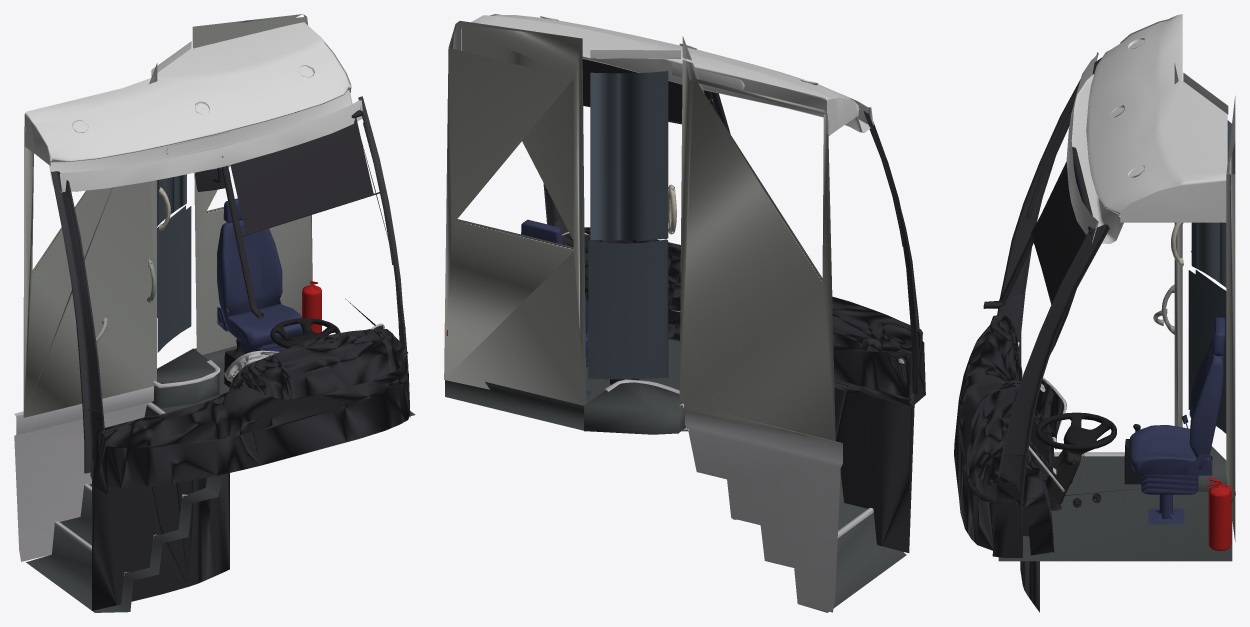
File: cabine_onibus.glb
3 views of the same model, side by side, from view 1: azimuth 30°, elevation 25°; view 2: azimuth 150°, elevation 25°; view 3: azimuth 270°, elevation 25° (orthographic). The views are drawn at different scales.
Parts seen in each view (by area): view 1: cabine; view 2: cabine; view 3: cabine.
Boxes of the visible parts, box(x1,y1,x2,y2) form: cabine: box(14, 14, 415, 612); cabine: box(444, 14, 925, 612); cabine: box(954, 14, 1235, 612).
Bounding box in the file's own units: 2.55 × 3.54 × 1.66.
Materials: 1 (1 with a texture image).
